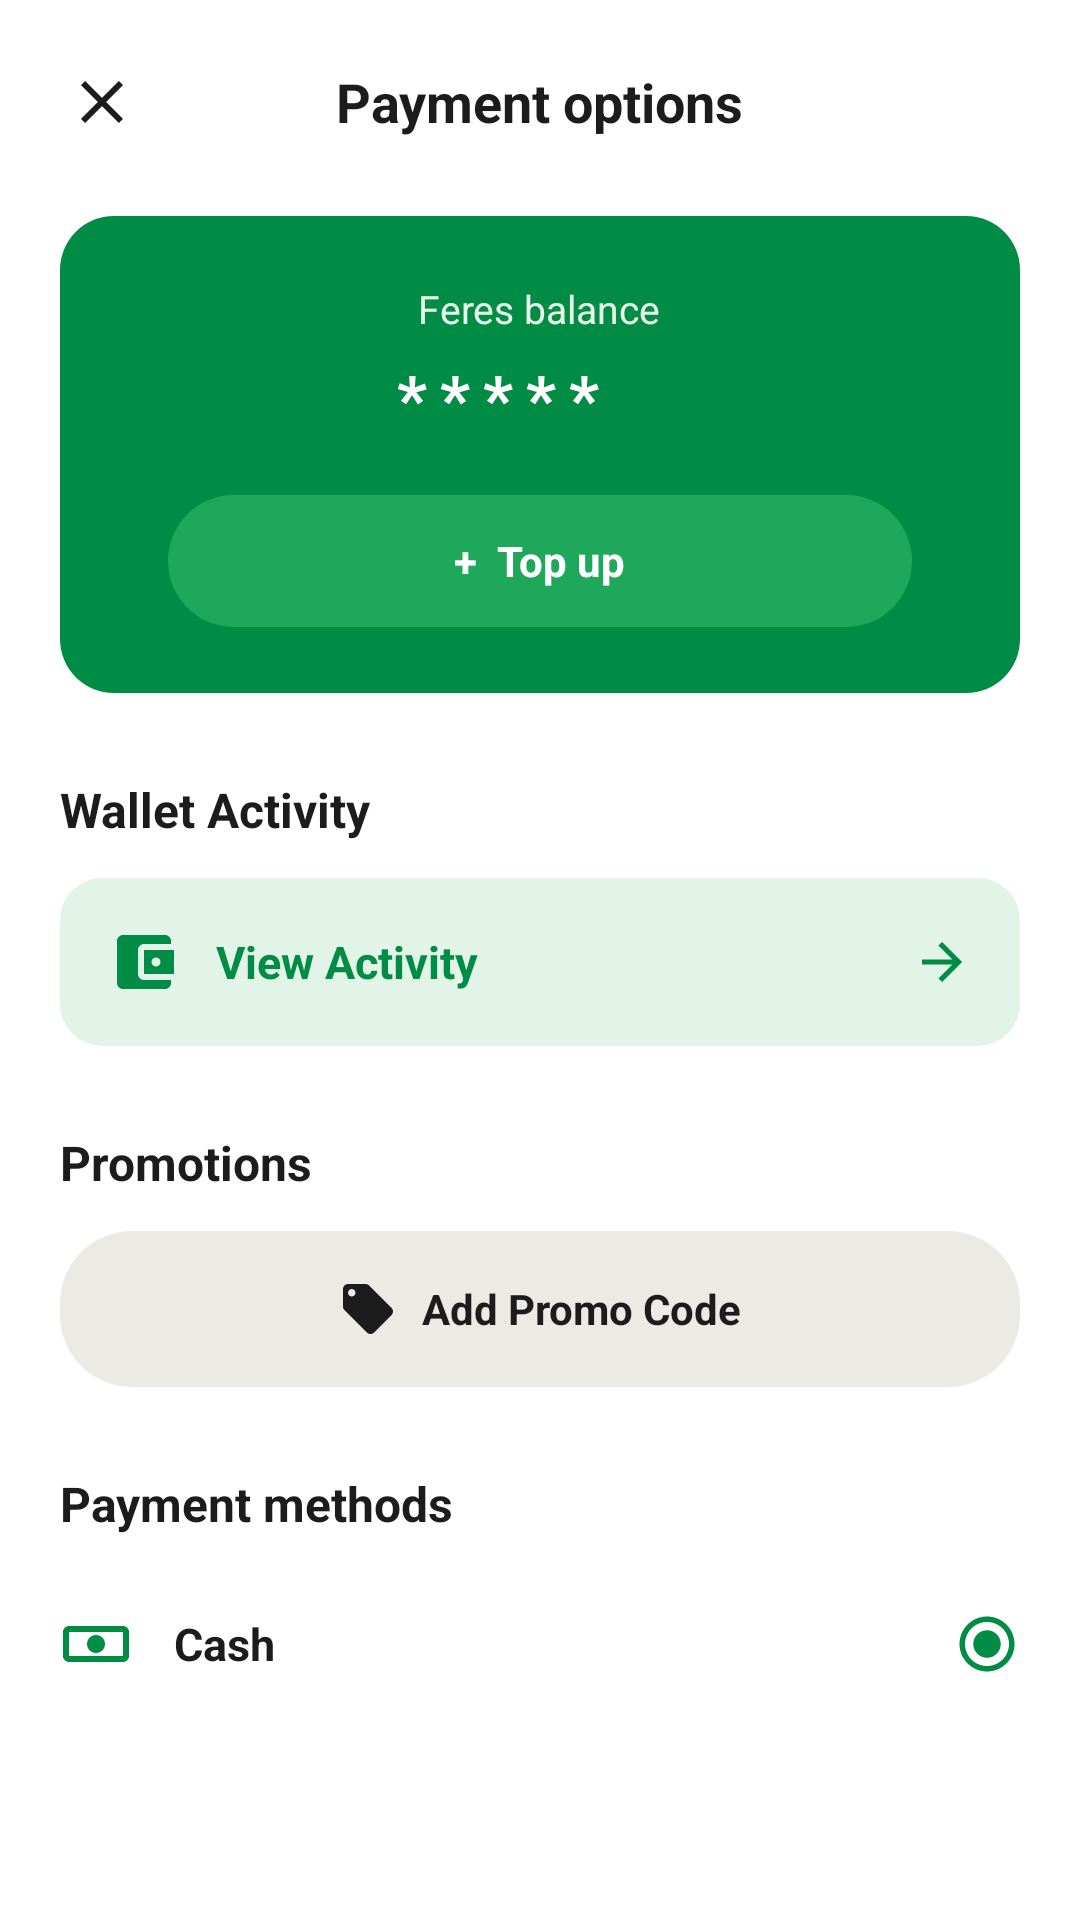

Locate icon controls on the screen. Image size 1080*1920, boxes as [left=x1, top=y1, right=x2, bottom=y2].
arrow forward: [left=922, top=942, right=962, bottom=982]
Close: [left=81, top=81, right=123, bottom=123]
radio checked: [left=959, top=1616, right=1015, bottom=1672]
